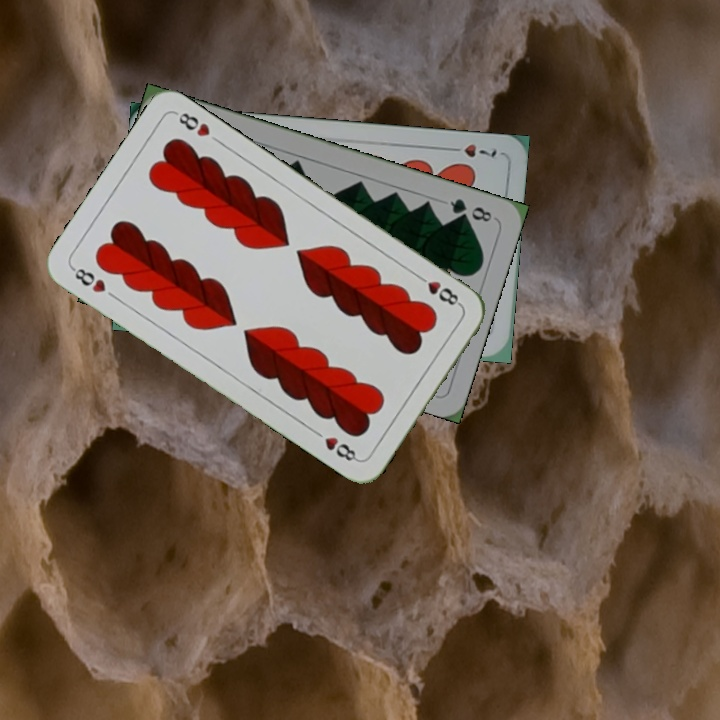G8: (445, 194, 495, 225)
H7: (443, 140, 499, 160)
H8: (412, 270, 464, 309), (67, 263, 109, 296)
